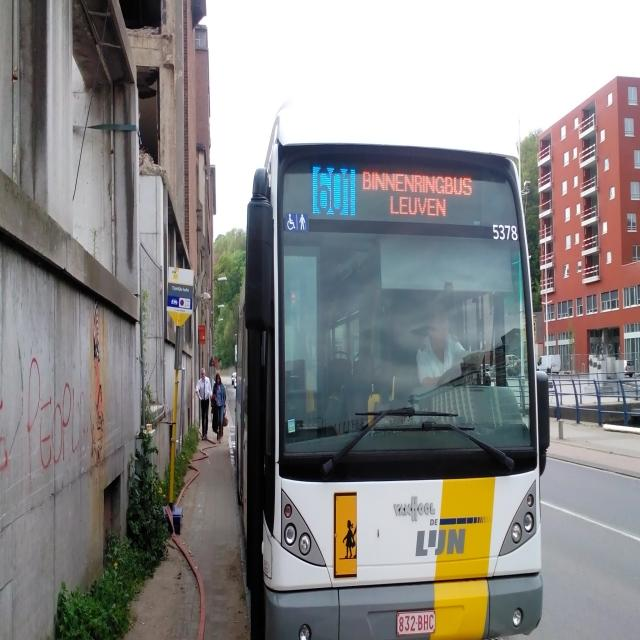bus-number: (312, 166, 356, 218)
